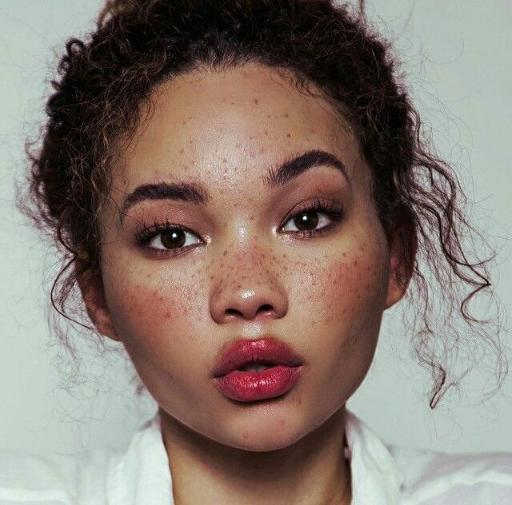left_eye: (276, 208, 344, 245)
left_lip_corner: (298, 356, 313, 376)
right_eye: (137, 224, 208, 262)
right_lip_corner: (209, 368, 224, 389)
